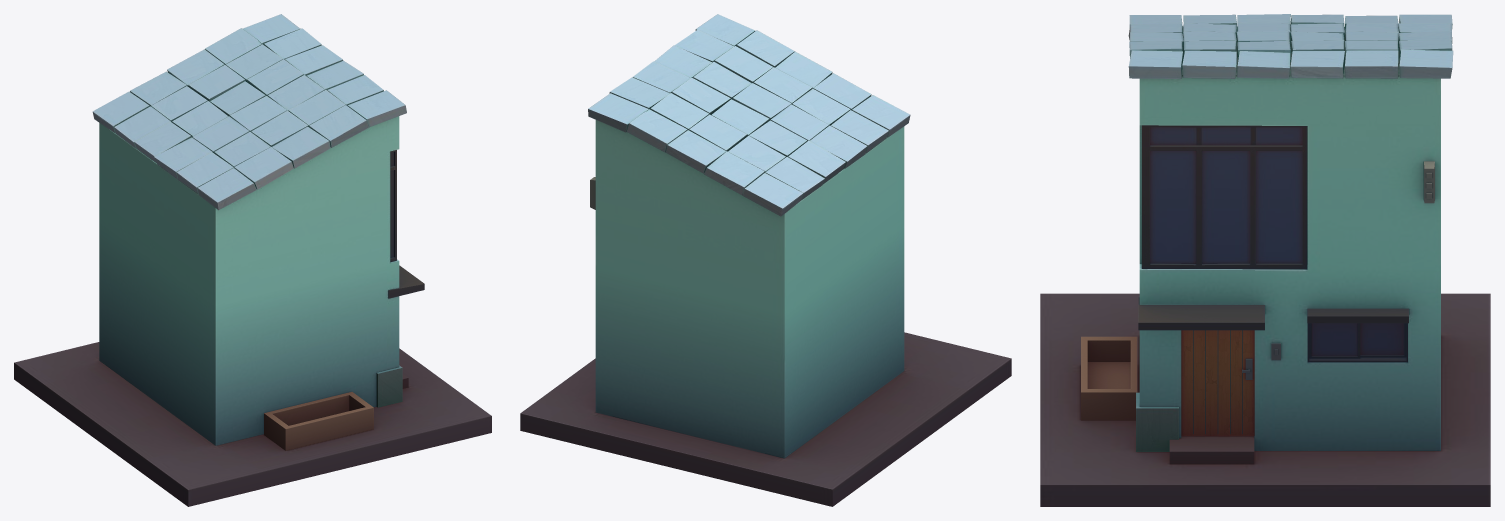
The model's file is casa-estrato-3.glb.
The picture shows the model from 3 angles, left to right: view 1: azimuth 30°, elevation 25°; view 2: azimuth 150°, elevation 25°; view 3: azimuth 270°, elevation 25°; orthographic projection. The views are drawn at different scales.
Parts seen in each view (by area): view 1: Material.005, piedra, suelo 2, Matera 2, Negro 2; view 2: Material.005, piedra, suelo 2; view 3: Material.005, suelo 2, Negro 2, piedra, Madera 2, Matera 2, Gris 2.
Part boxes in pixels (x1,y1,x2,y2): Material.005: (99, 116, 399, 445); piedra: (92, 14, 406, 407); suelo 2: (14, 342, 491, 506); Matera 2: (264, 392, 373, 450); Negro 2: (388, 150, 424, 298); Material.005: (595, 120, 904, 458); piedra: (588, 14, 910, 216); suelo 2: (520, 332, 1011, 506); Material.005: (1139, 26, 1440, 450); suelo 2: (1040, 293, 1490, 506); Negro 2: (1138, 125, 1408, 362); piedra: (1128, 14, 1453, 451); Madera 2: (1181, 330, 1254, 436); Matera 2: (1081, 336, 1137, 420); Gris 2: (1242, 161, 1434, 379).
Size of the model in its own units: 5.42 by 5.39 by 5.38.
Materials: 7 (7 with a texture image).
